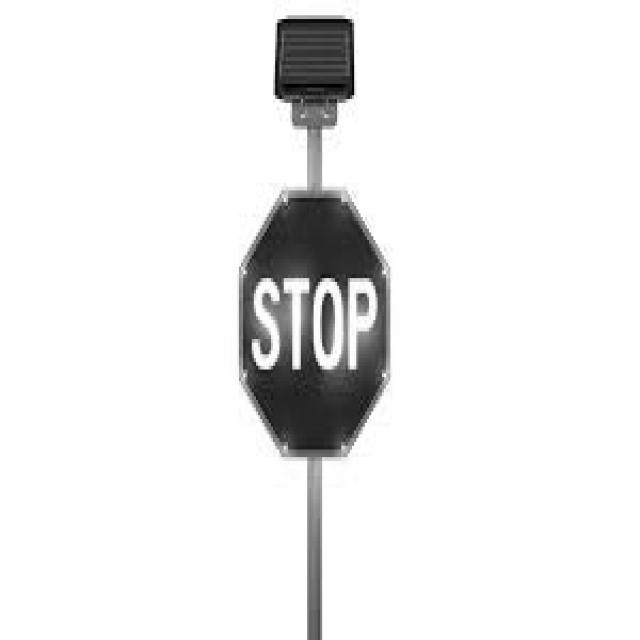stop sign: (238, 184, 392, 459)
